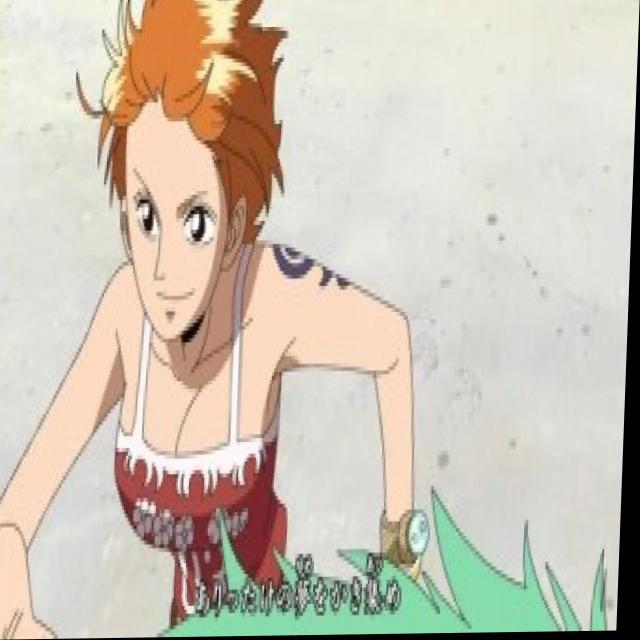Nami: (68, 0, 293, 348)
